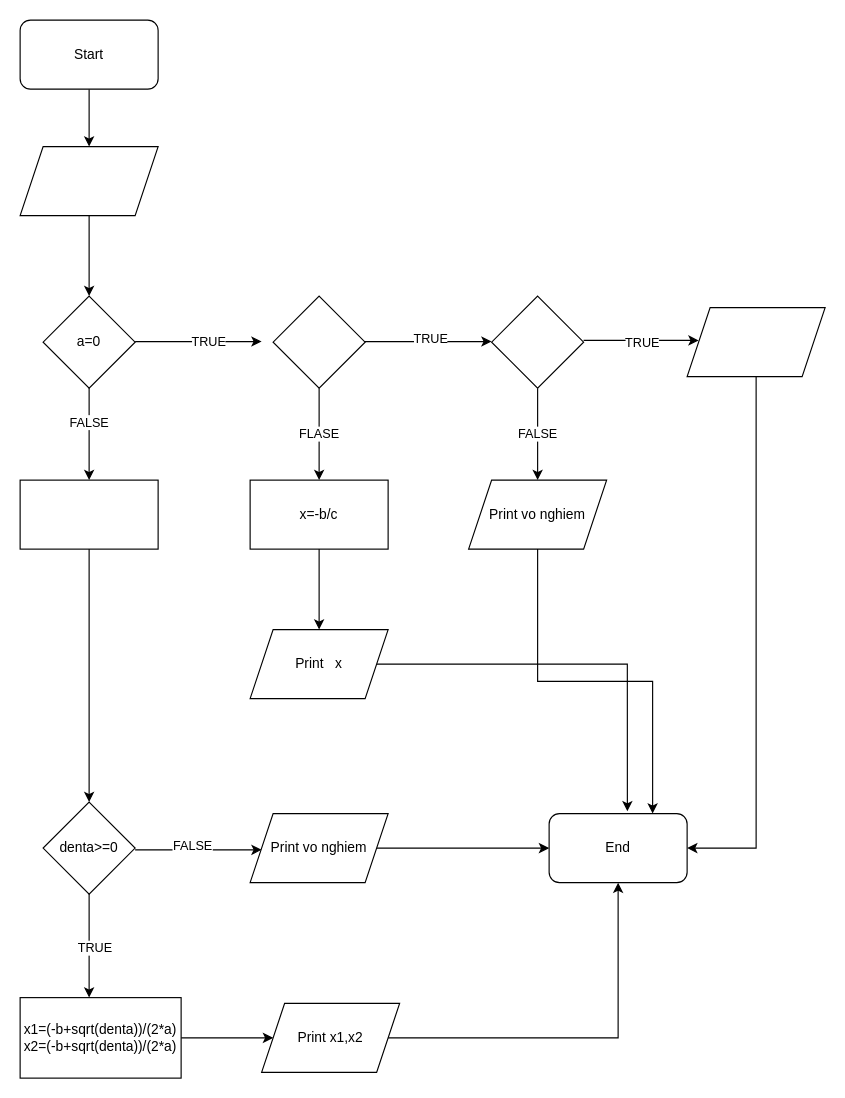
Some shapes in this 845 by 1098 pixel diagram are drawn without their labels. The centre of each missing label's shape, as x and y in pixels:
b=0: the point at 318,341
c=0: the point at 537,341
denta=b^2-4*a*c: the point at 88,514
Input a,b,c: the point at 88,180
Print vo so nghiem: the point at 755,341
